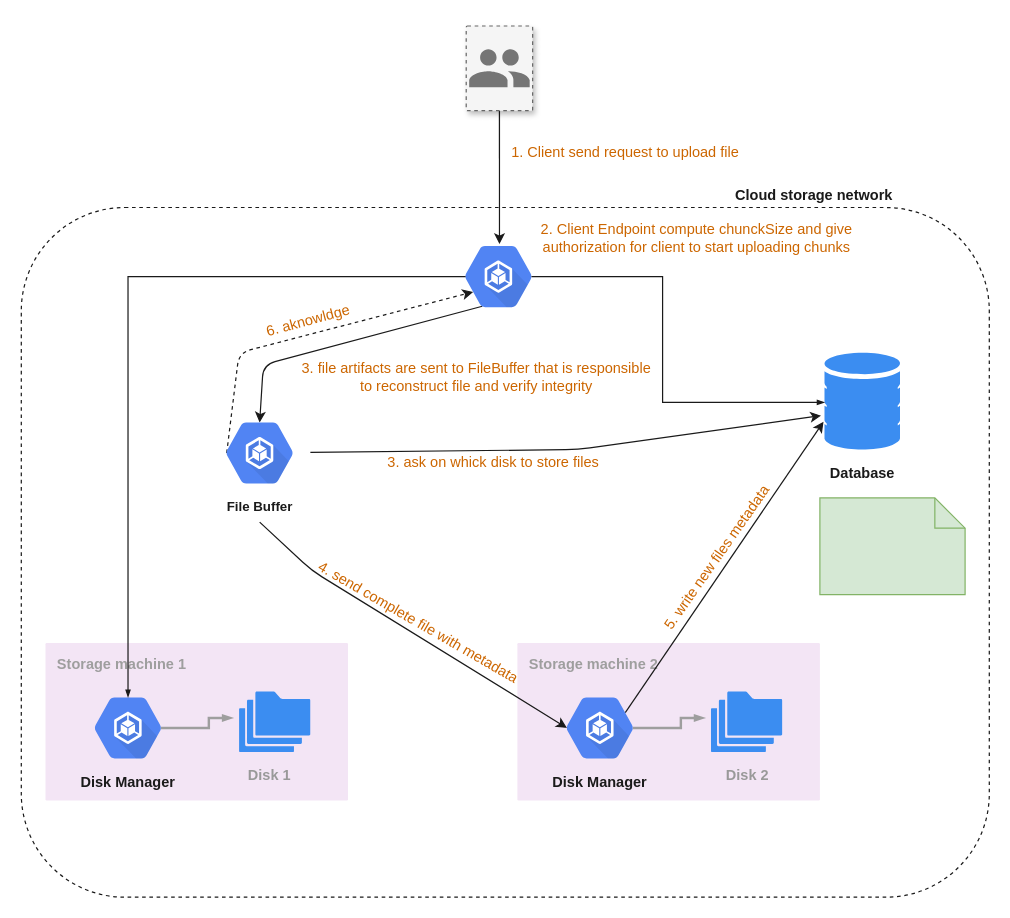
Some shapes in this 1010 by 918 pixel diagram are drawn without their labels. Here are the shapes that lost their labels. From the top down, the centre of each, then its label:
(500,69): Users
(498,276): Client Endpoint
(892,546): "Fichier A stocké sur Disk 1 et appartient à user XXX"
